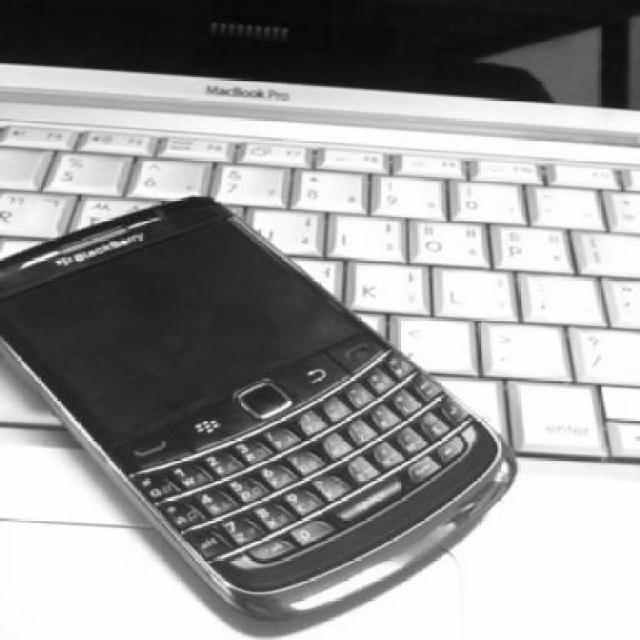fake: (6, 170, 520, 624)
